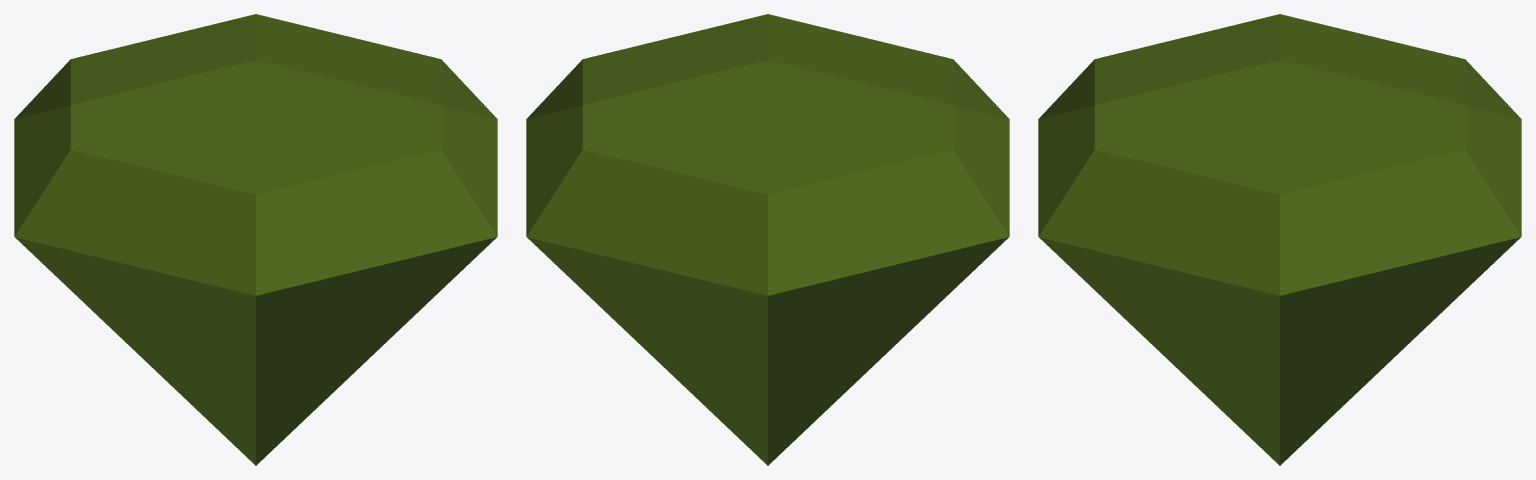
The model's file is Gem 2 (painting partition).dae.
3 views of the same model, side by side, from view 1: azimuth 30°, elevation 25°; view 2: azimuth 150°, elevation 25°; view 3: azimuth 270°, elevation 25° (orthographic).
Parts seen in each view (by area): view 1: Untitled__1_; view 2: Untitled__1_; view 3: Untitled__1_.
Part boxes in pixels (bbox=[...]): Untitled__1_: bbox=[14, 14, 497, 465]; Untitled__1_: bbox=[526, 14, 1009, 465]; Untitled__1_: bbox=[1038, 14, 1521, 465].
Size of the model in its own units: 39.5 by 34.21 by 28.25.
